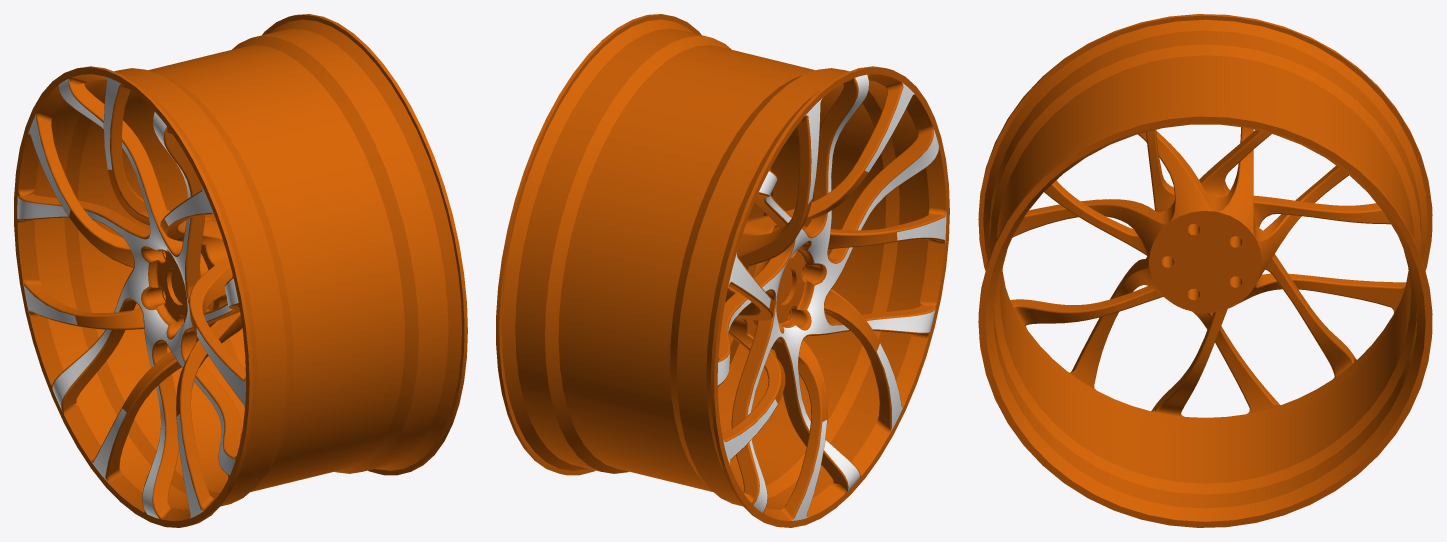
Rendered from car-rim-c66cf1.glb.
3 views of the same model, side by side, from view 1: azimuth 30°, elevation 25°; view 2: azimuth 150°, elevation 25°; view 3: azimuth 270°, elevation 25° (orthographic). The views are drawn at different scales.
Visible parts, largest first — view 1: Object_3, Object_4, Object_2; view 2: Object_3, Object_4; view 3: Object_3.
Part boxes in pixels (box(x1,y1,x2,y2)): Object_3: box(14, 14, 467, 527); Object_4: box(17, 76, 245, 518); Object_2: box(17, 220, 39, 279); Object_3: box(496, 14, 949, 527); Object_4: box(717, 74, 946, 520); Object_3: box(978, 14, 1432, 527).
Size of the model in its own units: 0.3697 by 0.68 by 0.68.
